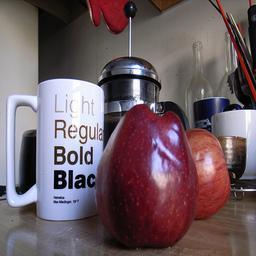apple: (96, 104, 198, 248), (184, 126, 231, 219)
